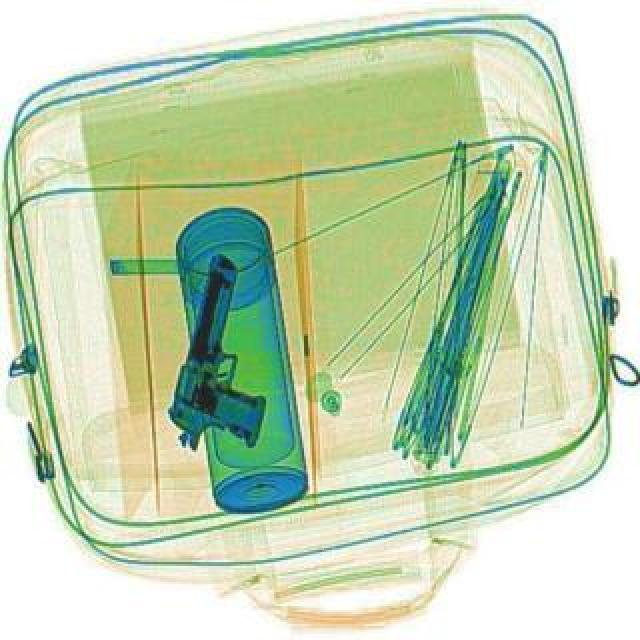gun: (158, 252, 306, 462)
